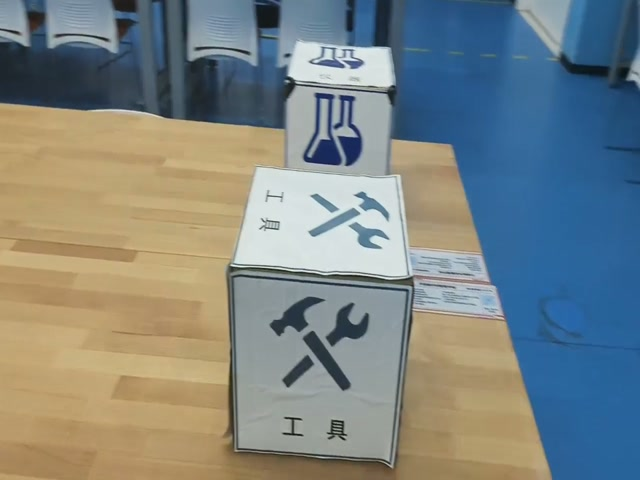Cube_ins: (286, 41, 395, 93)
Cube_tool: (228, 167, 411, 285)
